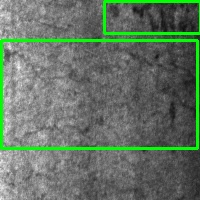crazing: (1, 40, 197, 148), (104, 1, 200, 33)
